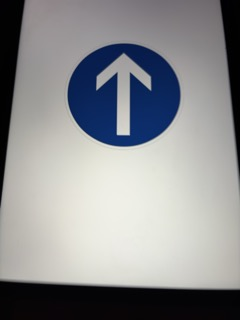GO FORWARD: (65, 41, 183, 148)
